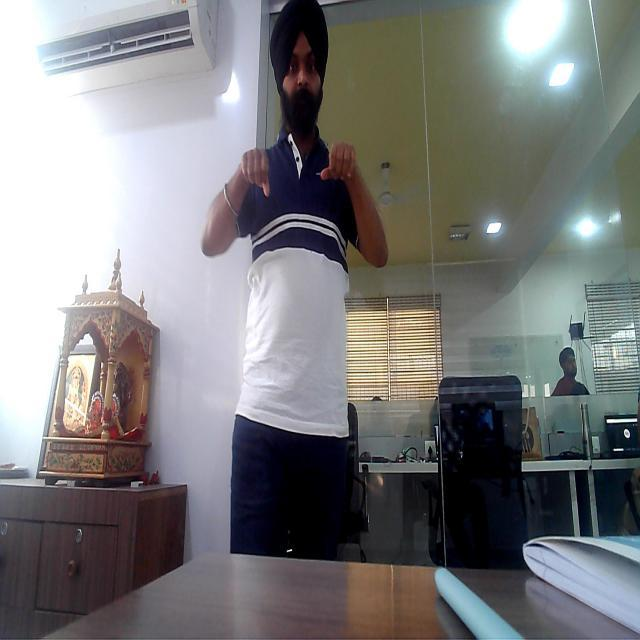without_gloves: (316, 139, 372, 191), (240, 144, 273, 204)
